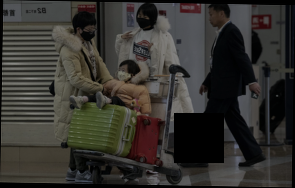with_mask: (80, 25, 97, 42), (135, 13, 151, 29), (116, 67, 131, 82)
without_mask: (207, 10, 220, 28)
